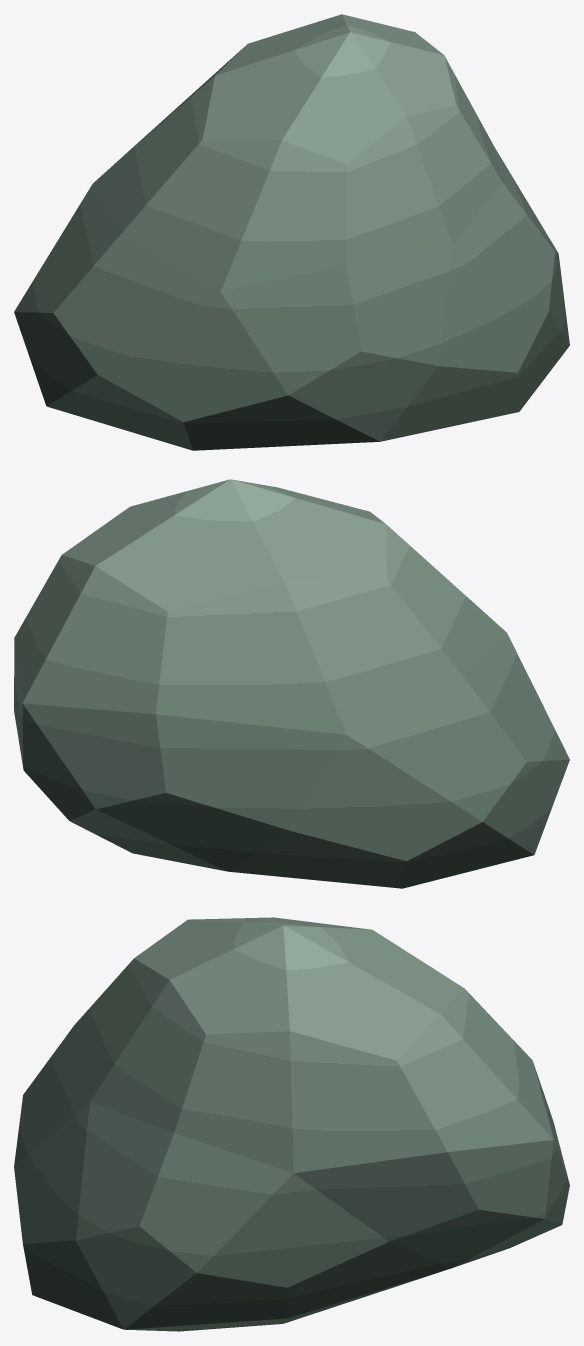
The model's file is rocks-1.fbx.
3 renders of one model, top to bottom at view 1: azimuth 30°, elevation 25°; view 2: azimuth 150°, elevation 25°; view 3: azimuth 270°, elevation 25°, orthographic. The views are drawn at different scales.
Visible parts, largest first — view 1: Icosphere.002; view 2: Icosphere.002; view 3: Icosphere.002.
Boxes of the visible parts, x1=… form: Icosphere.002: x1=14, y1=14, x2=569, y2=450; Icosphere.002: x1=14, y1=479, x2=569, y2=888; Icosphere.002: x1=14, y1=917, x2=569, y2=1331.
Size of the model in its own units: 239 by 162 by 221.
